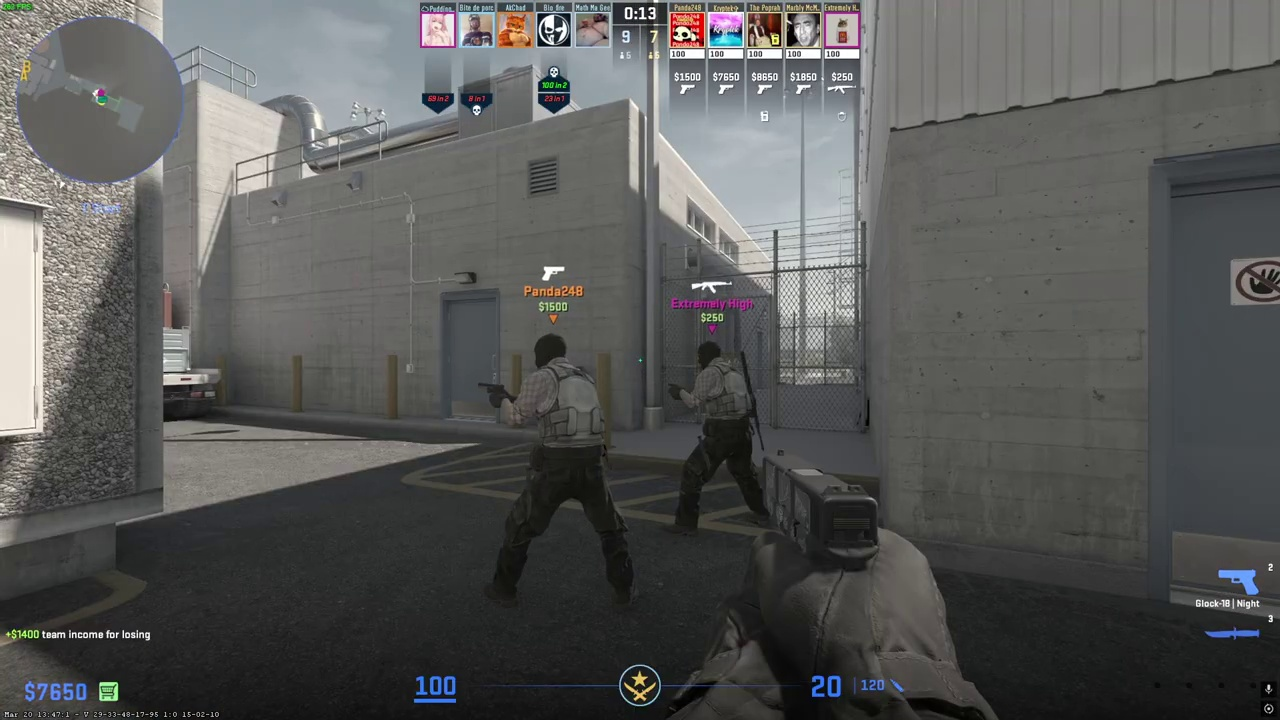Terrorist: (497, 333, 627, 616), (671, 340, 763, 534)
